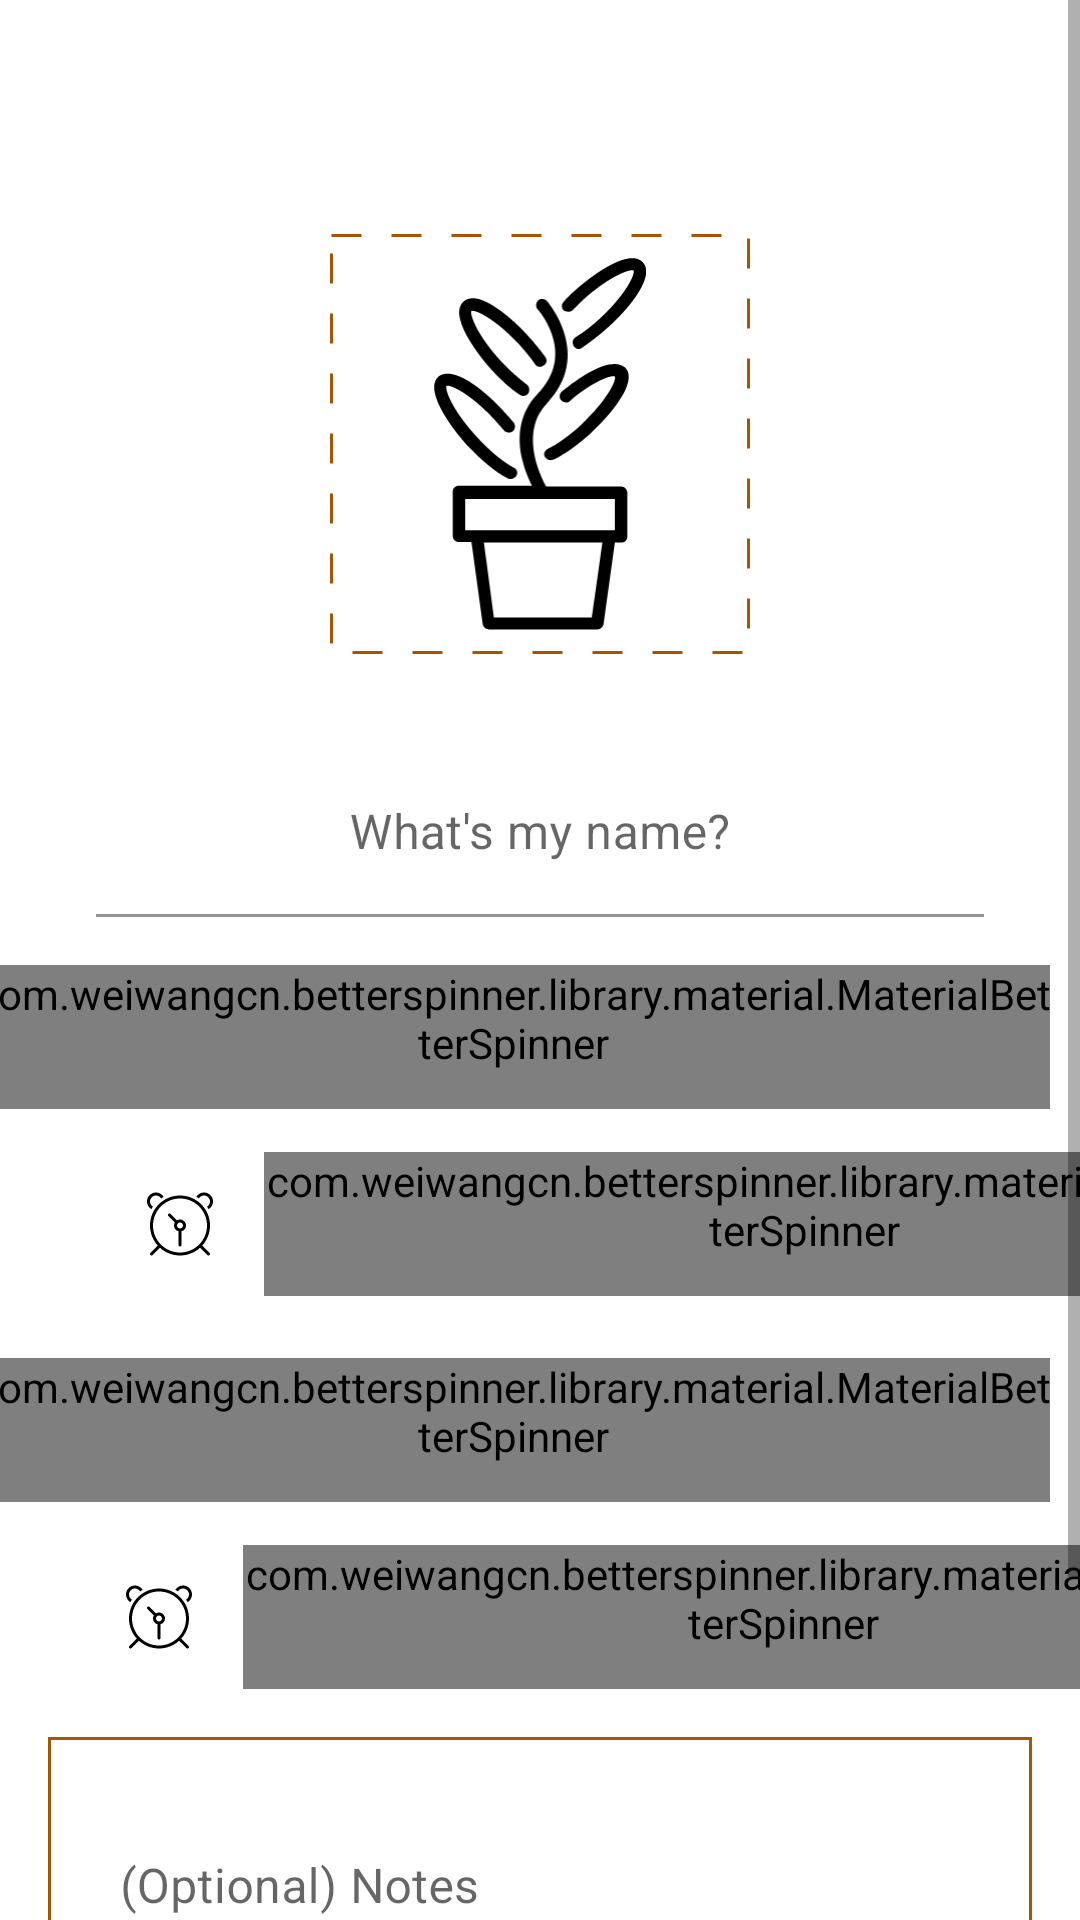

Screen size 1080 x 1920. Icon name, then its box in pixels as box=[x1, y1, x2, y2]:
alarm: box=[147, 1192, 213, 1256], box=[126, 1585, 192, 1649]
